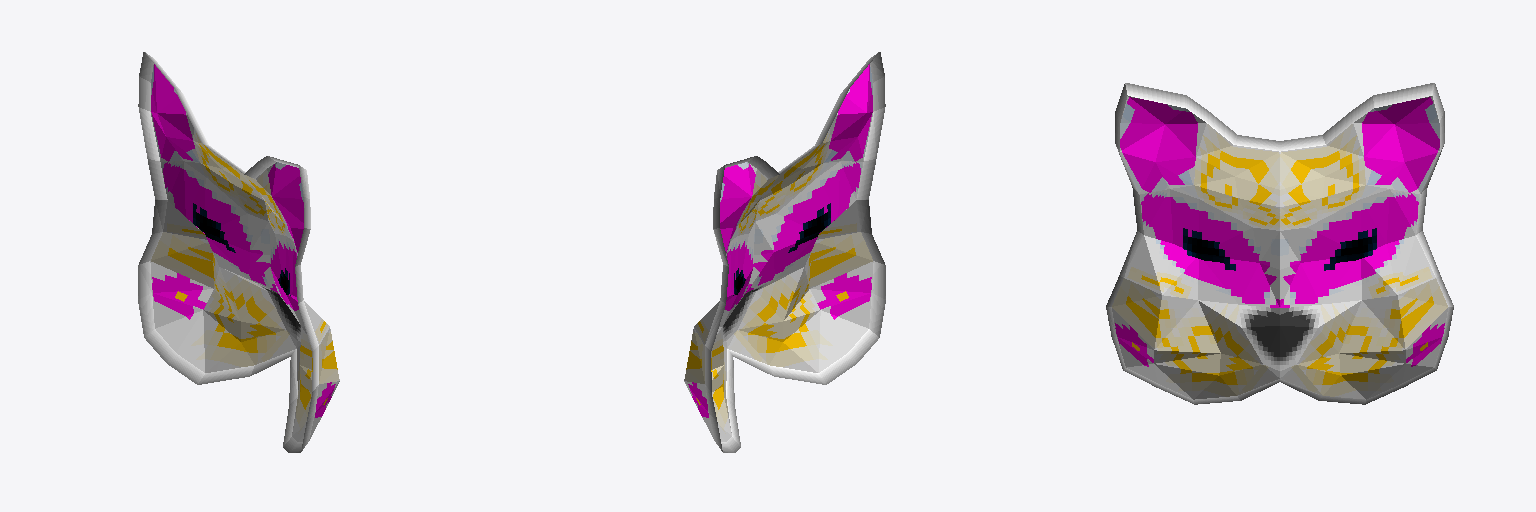
3 views of the same model, side by side, from view 1: azimuth 30°, elevation 25°; view 2: azimuth 150°, elevation 25°; view 3: azimuth 270°, elevation 25° (orthographic).
Parts seen in each view (by area): view 1: mask_player_3; view 2: mask_player_3; view 3: mask_player_3.
Boxes of the visible parts, x1,y1,x2,y2 form: mask_player_3: [138, 52, 339, 452]; mask_player_3: [684, 52, 885, 452]; mask_player_3: [1106, 83, 1453, 404].
Bounding box in the file's own units: 18.77 × 67.42 × 67.98.
1 materials, 1 textured.